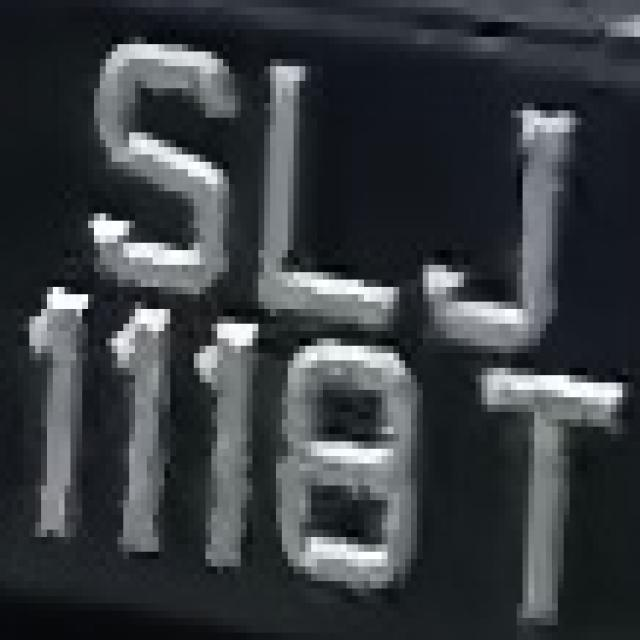1: (188, 287, 258, 603), (24, 257, 88, 574), (112, 280, 170, 581)
8: (270, 316, 452, 618)
J: (422, 59, 610, 360)
L: (258, 29, 423, 338)
S: (76, 29, 252, 309)
T: (474, 360, 630, 623), (4, 4, 6, 8)
